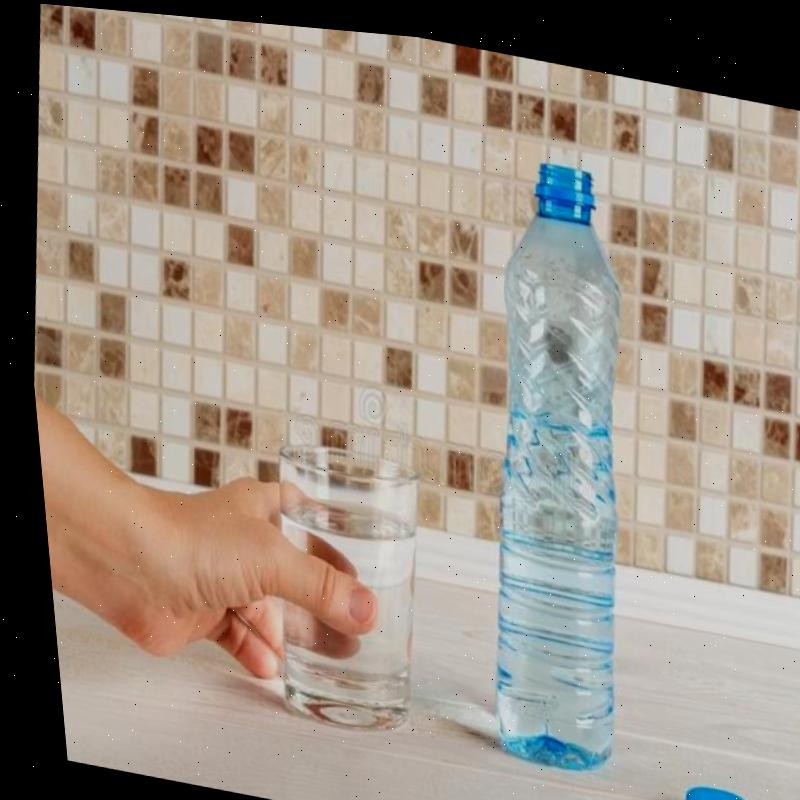botella: (438, 139, 664, 770)
